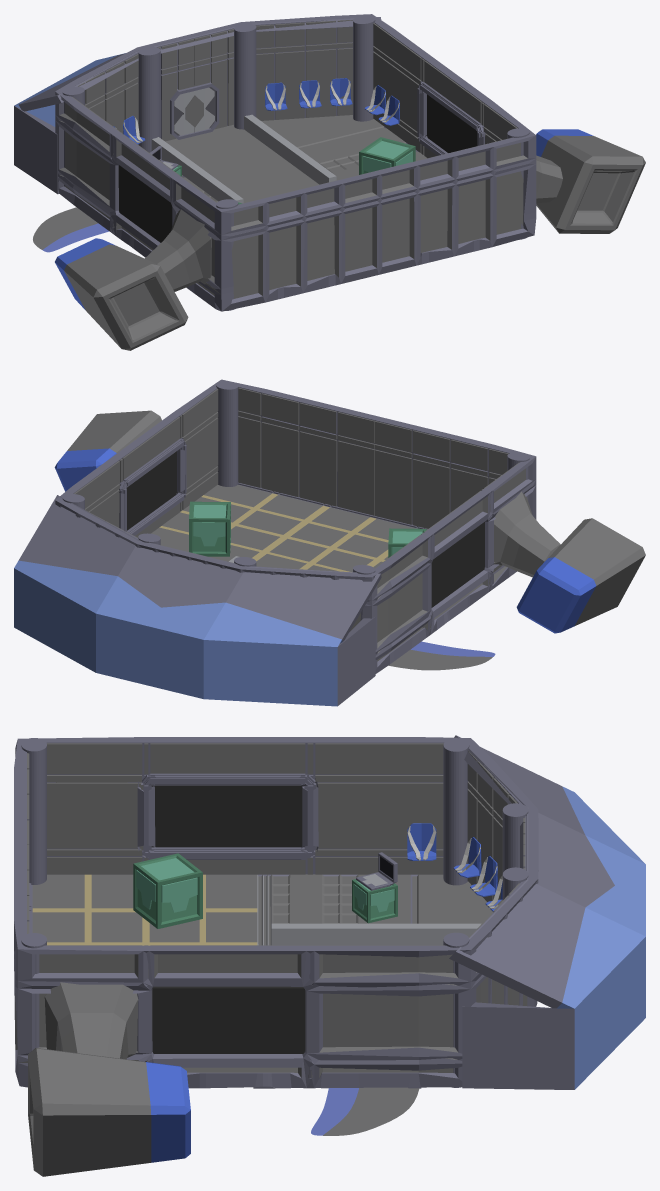
Rendered from Among Us Lobby.fbx.
The picture shows the model from 3 angles, top to bottom: view 1: azimuth 30°, elevation 25°; view 2: azimuth 150°, elevation 25°; view 3: azimuth 270°, elevation 25°; orthographic projection. The views are drawn at different scales.
Visible parts, largest first — view 1: Plane, Cube.003, Plane.016, Plane.013, Plane.002, Cube, Plane.001, Plane.006, Plane.004, Plane.003; view 2: Plane, Cube.003, Plane.016, Cube, Plane.013, Cube.001; view 3: Plane, Cube.003, Plane.016, Cube.001, Plane.014, Cube.002, Plane.009, Plane.015, Plane.005, Plane.007.
Boxes of the visible parts, box(x1,y1,x2,y2) form: Plane: box(14, 14, 536, 311); Cube.003: box(55, 129, 645, 350); Plane.016: box(118, 94, 477, 242); Plane.013: box(33, 207, 109, 252); Plane.002: box(174, 87, 215, 135); Cube: box(359, 137, 415, 174); Plane.001: box(170, 82, 219, 139); Plane.006: box(265, 82, 287, 110); Plane.004: box(299, 80, 321, 108); Plane.003: box(330, 78, 352, 106); Plane: box(14, 379, 536, 706); Cube.003: box(54, 410, 645, 633); Plane.016: box(126, 451, 484, 607); Cube: box(189, 501, 230, 556); Plane.013: box(388, 641, 495, 670); Cube.001: box(388, 528, 426, 557); Plane: box(14, 735, 645, 1089); Cube.003: box(28, 782, 190, 1176); Plane.016: box(151, 785, 305, 1053); Cube.001: box(133, 853, 202, 928); Plane.014: box(311, 1087, 419, 1135); Cube.002: box(352, 879, 397, 923); Plane.009: box(407, 823, 436, 860); Plane.015: box(356, 852, 397, 890); Plane.005: box(453, 837, 481, 877); Plane.007: box(470, 856, 497, 896).
Size of the model in its own units: 2406 by 527 by 1738.
